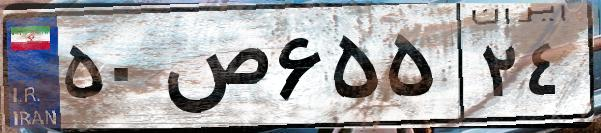0: (110, 28, 158, 98)
2: (475, 38, 525, 113)
4: (525, 38, 570, 115)
5: (385, 28, 445, 110), (330, 28, 385, 110), (57, 26, 110, 100)
6: (270, 28, 330, 110)
ص: (158, 20, 270, 120)
